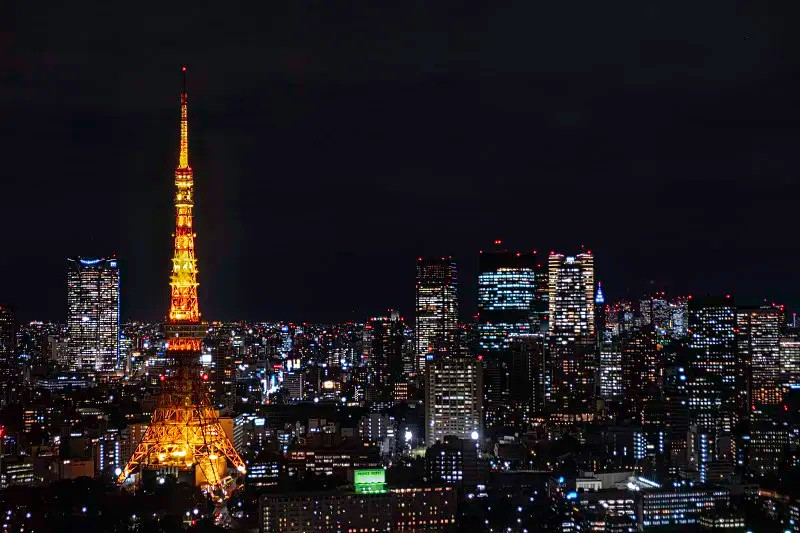Tokyo: (118, 64, 244, 494)
